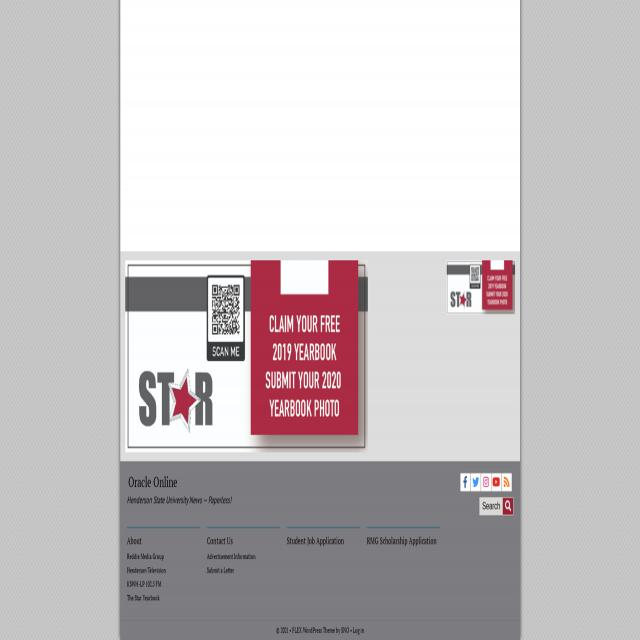button: (125, 260, 367, 452), (447, 260, 515, 314), (503, 496, 513, 516), (481, 474, 491, 492), (502, 474, 512, 491), (492, 474, 502, 491), (470, 474, 480, 491), (461, 474, 470, 491)
field: (479, 497, 503, 515)
